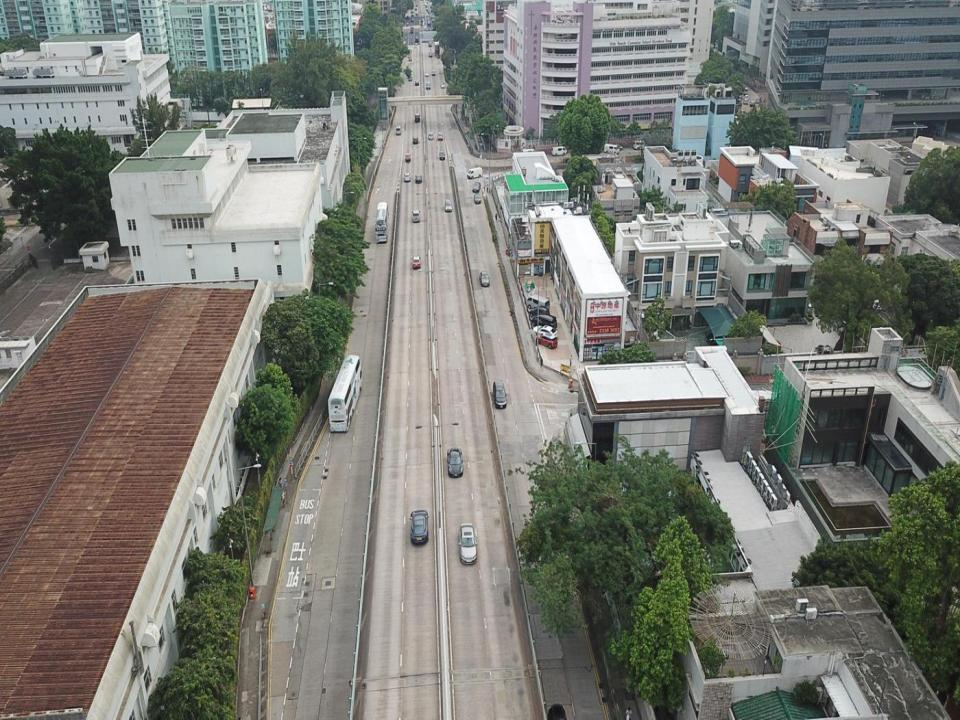bus: (327, 355, 363, 432), (403, 1, 436, 45), (376, 201, 389, 243), (434, 40, 439, 56)
car: (409, 510, 430, 545), (459, 524, 477, 563), (446, 448, 463, 479), (534, 324, 558, 339), (535, 333, 557, 349), (528, 305, 549, 315), (480, 270, 491, 286), (412, 254, 420, 270), (444, 198, 452, 211), (474, 191, 480, 202), (405, 152, 411, 162), (439, 150, 445, 160), (404, 173, 410, 182), (416, 172, 421, 182), (413, 136, 418, 145), (428, 52, 434, 59), (438, 130, 442, 140), (440, 80, 445, 88), (432, 68, 436, 76), (428, 132, 432, 138), (426, 82, 430, 88), (425, 72, 429, 77), (415, 79, 420, 83)
van: (492, 380, 507, 409), (530, 313, 558, 328), (527, 294, 550, 312), (466, 166, 482, 178), (552, 146, 566, 156), (604, 142, 618, 152), (634, 141, 647, 150), (412, 209, 420, 221), (395, 124, 401, 134), (415, 112, 420, 122)
